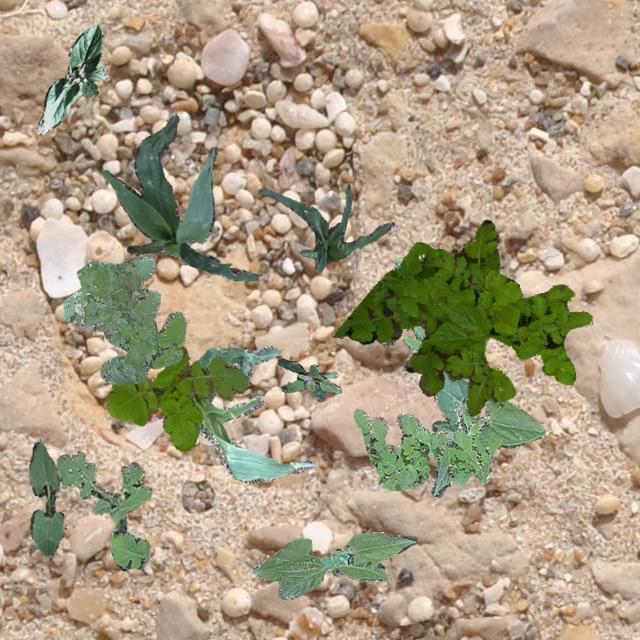crop: (102, 113, 260, 280), (190, 346, 316, 482), (430, 372, 544, 497), (256, 182, 394, 272), (252, 530, 416, 598), (34, 22, 106, 134), (28, 438, 62, 556)
weed: (332, 218, 590, 414), (61, 254, 186, 384), (105, 346, 248, 450), (352, 404, 502, 490), (56, 450, 150, 570), (392, 258, 426, 352), (276, 358, 341, 400)
